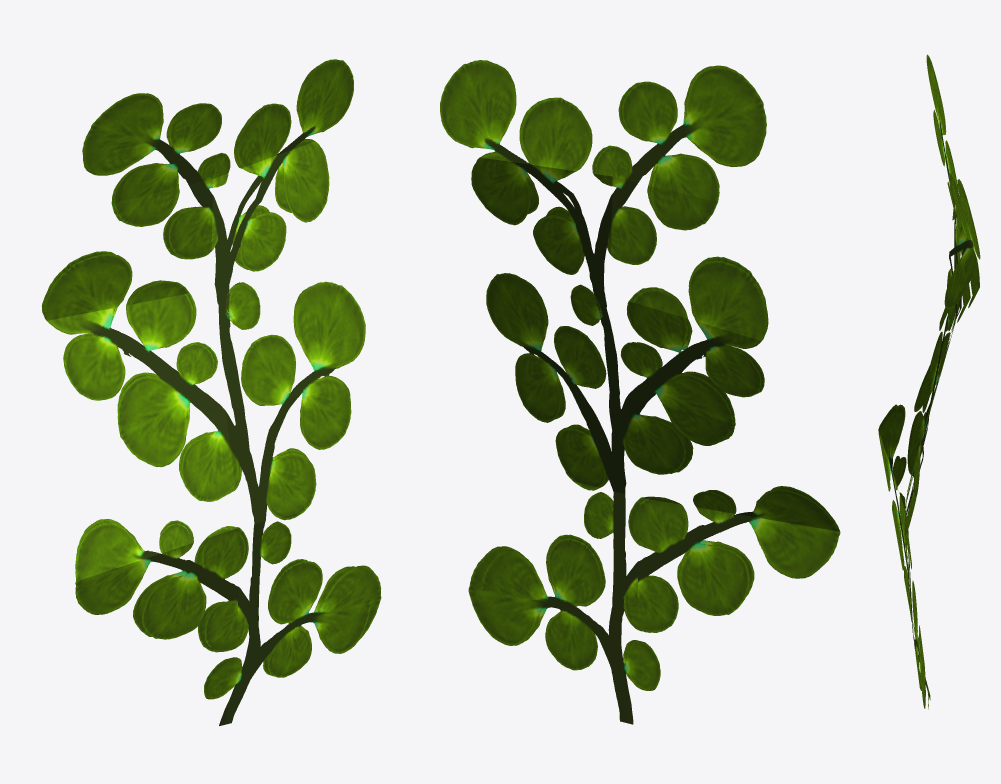
The model's file is seaweedPlane.fbx.
3 views of the same model, side by side, from view 1: azimuth 30°, elevation 25°; view 2: azimuth 150°, elevation 25°; view 3: azimuth 270°, elevation 25° (orthographic). The views are drawn at different scales.
Parts seen in each view (by area): view 1: polySurface1; view 2: polySurface1; view 3: polySurface1.
Part boxes in pixels (left/top/right/bottom): polySurface1: left=42, top=59, right=381, bottom=725; polySurface1: left=440, top=60, right=840, bottom=724; polySurface1: left=878, top=54, right=980, bottom=709.
Size of the model in its own units: 4 by 7.27 by 1.2.
